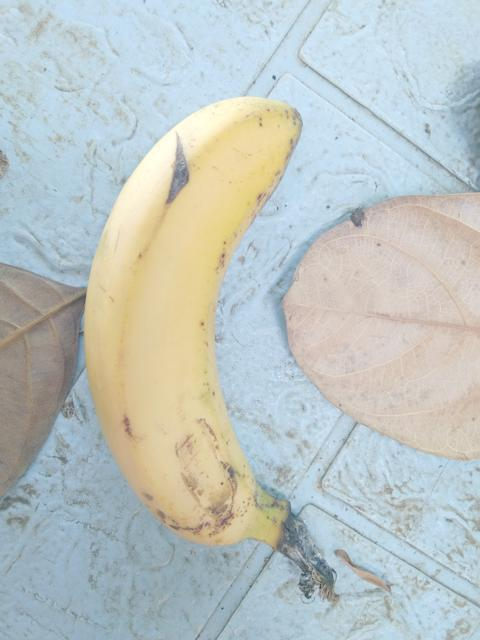ripe: (59, 80, 331, 555)
